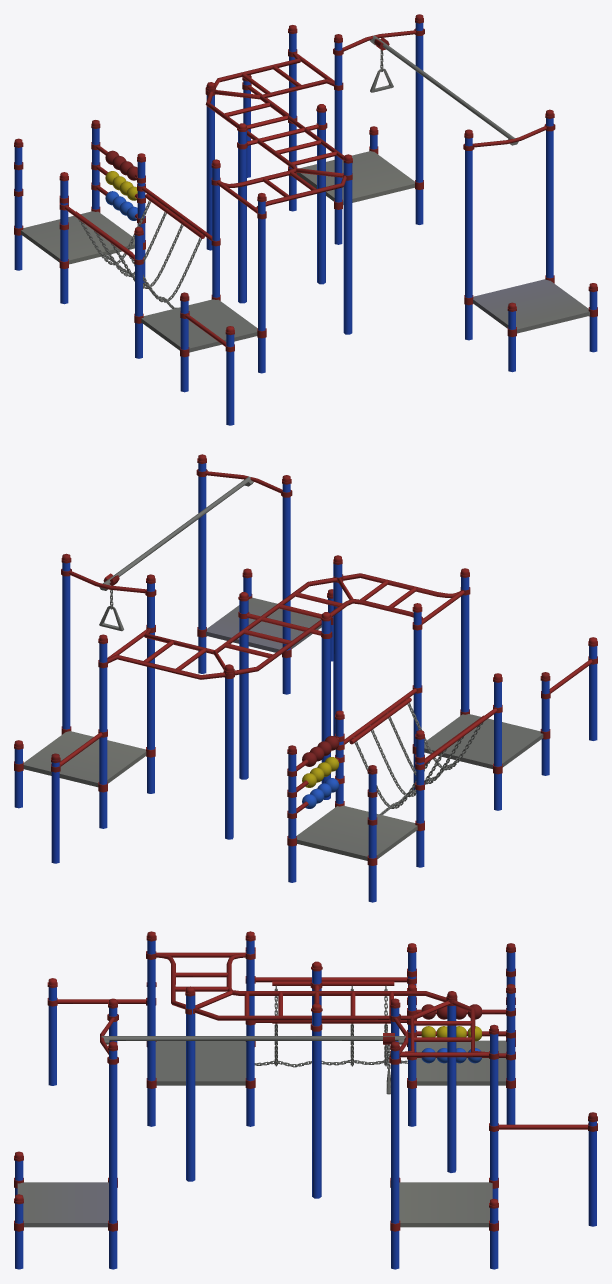
File: MasJuegos.fbx
The picture shows the model from 3 angles, top to bottom: view 1: azimuth 30°, elevation 25°; view 2: azimuth 150°, elevation 25°; view 3: azimuth 270°, elevation 25°; orthographic projection. The views are drawn at different scales.
Parts seen in each view (by area): view 1: Monkey Bars.001, Platforms.007, Platforms.006, Platforms.005, Platforms.004, Cylinder.335Blue poles, Cylinder.256Blue poles, Cylinder.251Blue poles, Cylinder.338Blue poles, Chain Obsticle.001, Flying fox bar, Cylinder.253Blue poles (+16 smaller); view 2: Monkey Bars.001, Platforms.005, Platforms.004, Platforms.006, Platforms.007, Cylinder.337Blue poles, Cylinder.338Blue poles, Cylinder.334Blue poles, Cylinder.273Blue poles, Cylinder.256Blue poles, Chain Obsticle.001, Flying fox bar (+16 smaller); view 3: Monkey Bars.001, Platforms.004, Platforms.007, Platforms.006, Platforms.005, Cylinder.335Blue poles, Cylinder.337Blue poles, Cylinder.273Blue poles, Cylinder.251Blue poles, Flying fox bar, Cylinder.249Blue poles, Cylinder.255Blue poles (+15 smaller).
Part boxes in pixels (x1,y1,x2,y2): Monkey Bars.001: [205, 52, 346, 213]; Platforms.007: [473, 279, 589, 333]; Platforms.006: [141, 299, 257, 352]; Platforms.005: [21, 211, 134, 264]; Platforms.004: [297, 151, 414, 204]; Cylinder.335Blue poles: [414, 14, 424, 224]; Cylinder.256Blue poles: [333, 34, 343, 244]; Cylinder.251Blue poles: [343, 154, 352, 334]; Cylinder.338Blue poles: [463, 129, 474, 340]; Chain Obsticle.001: [78, 196, 201, 308]; Flying fox bar: [342, 30, 546, 147]; Cylinder.253Blue poles: [237, 123, 247, 303]; Monkey Bars.001: [107, 573, 464, 679]; Platforms.005: [297, 805, 417, 860]; Platforms.004: [23, 731, 146, 787]; Platforms.006: [424, 714, 543, 768]; Platforms.007: [206, 597, 321, 652]; Cylinder.337Blue poles: [196, 454, 207, 673]; Cylinder.338Blue poles: [281, 475, 292, 694]; Cylinder.334Blue poles: [98, 634, 107, 828]; Cylinder.273Blue poles: [238, 592, 249, 779]; Cylinder.256Blue poles: [145, 574, 156, 793]; Chain Obsticle.001: [353, 699, 483, 814]; Flying fox bar: [69, 471, 282, 593]; Monkey Bars.001: [156, 952, 488, 1057]; Platforms.004: [399, 1182, 492, 1227]; Platforms.007: [17, 1182, 108, 1227]; Platforms.006: [155, 1041, 246, 1085]; Platforms.005: [416, 1040, 506, 1085]; Cylinder.335Blue poles: [389, 1041, 400, 1269]; Cylinder.337Blue poles: [107, 1041, 118, 1269]; Cylinder.273Blue poles: [310, 1003, 322, 1198]; Cylinder.251Blue poles: [185, 986, 195, 1181]; Flying fox bar: [100, 1017, 408, 1054]; Cylinder.249Blue poles: [146, 931, 156, 1126]; Cylinder.255Blue poles: [446, 991, 457, 1172].
Size of the model in its own units: 92.4 by 51.5 by 121.
Materials: 1 (1 with a texture image).
